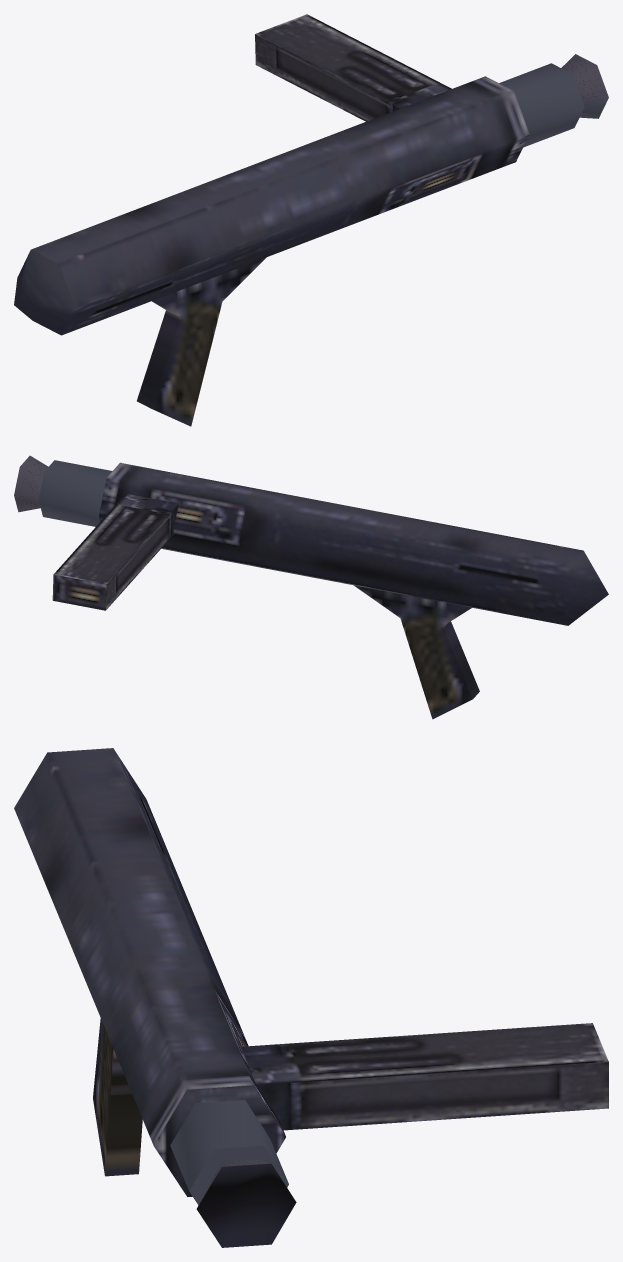
File: p_nailgun2.glb
The picture shows the model from 3 angles, top to bottom: view 1: azimuth 30°, elevation 25°; view 2: azimuth 150°, elevation 25°; view 3: azimuth 270°, elevation 25°; orthographic projection. The views are drawn at different scales.
Visible parts, largest first — view 1: p_nailgun2; view 2: p_nailgun2; view 3: p_nailgun2.
Boxes of the visible parts, x1,y1,x2,y2 form: p_nailgun2: (14, 14, 608, 426); p_nailgun2: (14, 455, 608, 719); p_nailgun2: (14, 748, 608, 1247).
Size of the model in its own units: 22.41 by 7.72 by 12.27.
Materials: 3 (3 with a texture image).
